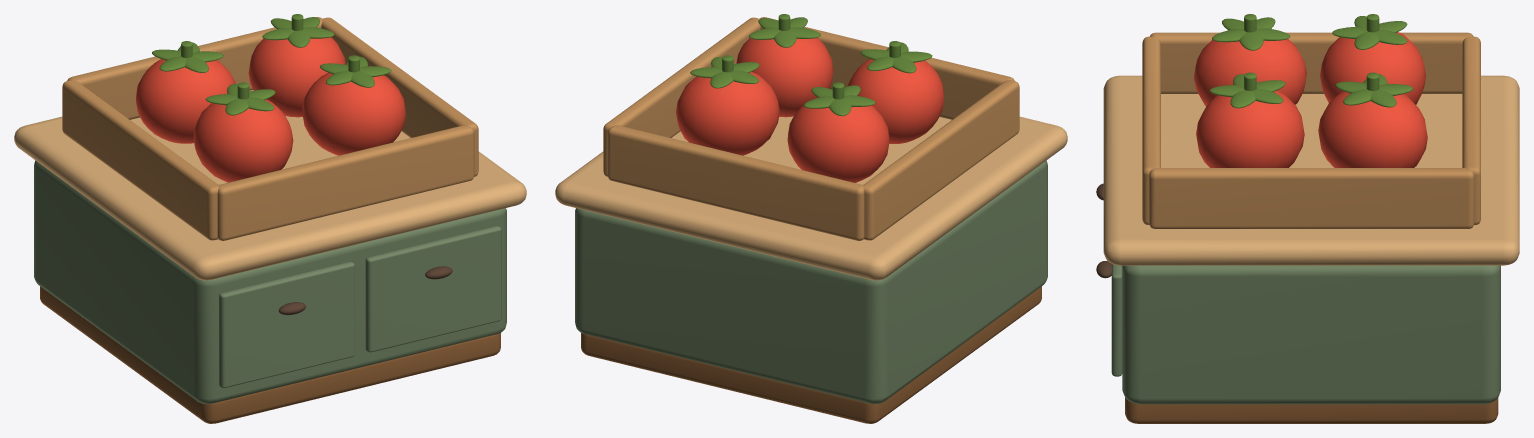
File: source-tomato.obj
3 renders of one model, left to right at view 1: azimuth 30°, elevation 25°; view 2: azimuth 150°, elevation 25°; view 3: azimuth 270°, elevation 25°, orthographic. The views are drawn at different scales.
Parts seen in each view (by area): view 1: source-tomato_sageDark, source-tomato_oak, source-tomato_oakLight, source-tomato_tomato, source-tomato_oakDark, source-tomato_leaf, source-tomato_cocoa; view 2: source-tomato_sageDark, source-tomato_oak, source-tomato_oakLight, source-tomato_tomato, source-tomato_oakDark, source-tomato_leaf; view 3: source-tomato_sageDark, source-tomato_oakLight, source-tomato_oak, source-tomato_tomato, source-tomato_oakDark, source-tomato_leaf.
Part boxes in pixels (x1,y1,x2,y2): source-tomato_sageDark: [34, 160, 506, 404]; source-tomato_oak: [62, 17, 478, 240]; source-tomato_oakLight: [14, 90, 526, 280]; source-tomato_tomato: [136, 37, 405, 182]; source-tomato_oakDark: [40, 286, 500, 423]; source-tomato_leaf: [152, 14, 391, 115]; source-tomato_cocoa: [278, 266, 452, 315]; source-tomato_sageDark: [575, 160, 1047, 404]; source-tomato_oak: [603, 17, 1019, 240]; source-tomato_oakLight: [555, 116, 1067, 280]; source-tomato_tomato: [676, 37, 943, 182]; source-tomato_oakDark: [581, 286, 1041, 423]; source-tomato_leaf: [690, 14, 932, 116]; source-tomato_sageDark: [1111, 264, 1500, 404]; source-tomato_oakLight: [1103, 75, 1519, 265]; source-tomato_oak: [1142, 32, 1480, 228]; source-tomato_tomato: [1194, 32, 1427, 167]; source-tomato_oakDark: [1125, 397, 1498, 423]; source-tomato_leaf: [1209, 14, 1413, 108].
Size of the model in its own units: 0.78 by 0.6275 by 0.794.
